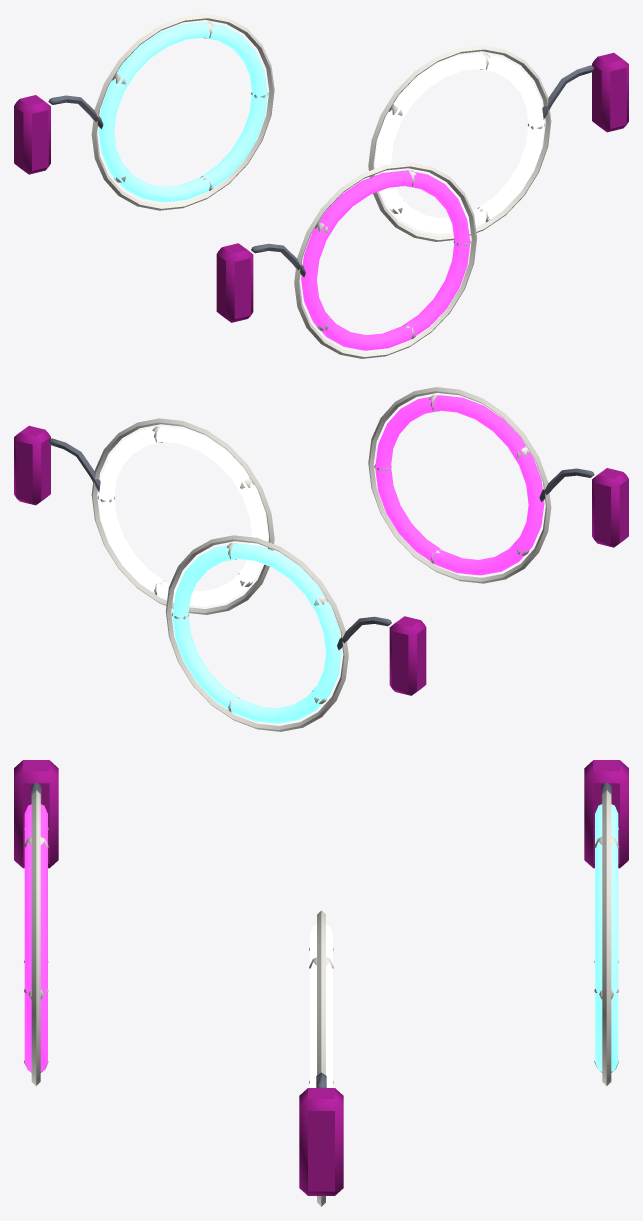
The model's file is Track_Gates.fbx.
The picture shows the model from 3 angles, top to bottom: view 1: azimuth 30°, elevation 25°; view 2: azimuth 150°, elevation 25°; view 3: azimuth 270°, elevation 25°; orthographic projection. The views are drawn at different scales.
Visible parts, largest first — view 1: Track_Gates; view 2: Track_Gates; view 3: Track_Gates.
Part boxes in pixels (box(x1,y1,x2,y2)): Track_Gates: box(14, 14, 628, 358); Track_Gates: box(14, 387, 628, 731); Track_Gates: box(14, 760, 628, 1206).
Bounding box in the file's own units: 9.2 × 3.34 × 6.9.
